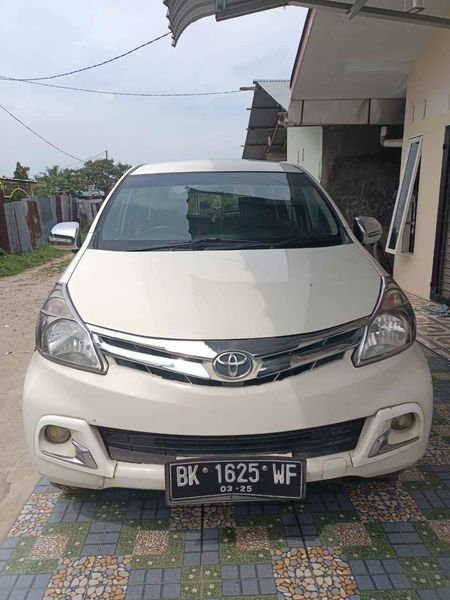plate: (166, 461, 309, 503)
